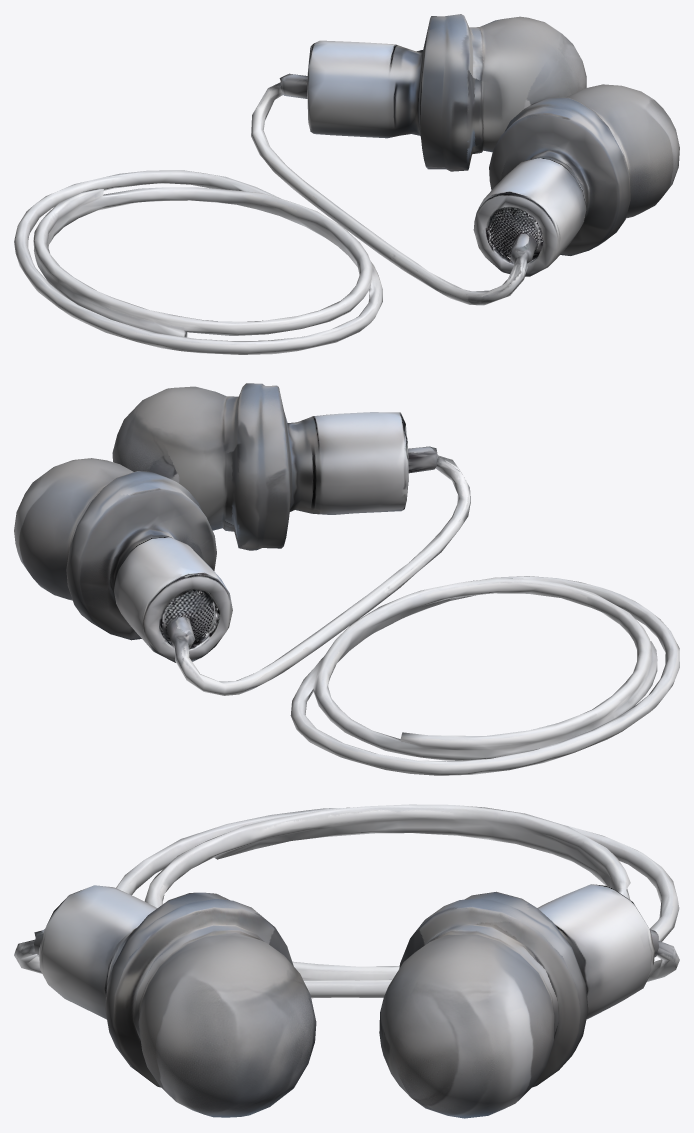
Rendered from Prop_Earplugs_01.glb.
3 views of the same model, one above another, from view 1: azimuth 30°, elevation 25°; view 2: azimuth 150°, elevation 25°; view 3: azimuth 270°, elevation 25° (orthographic). The views are drawn at different scales.
Parts seen in each view (by area): view 1: mesh_node; view 2: mesh_node; view 3: mesh_node.
Part boxes in pixels (x1,y1,x2,y2): mesh_node: (14, 14, 679, 354); mesh_node: (14, 383, 679, 775); mesh_node: (14, 804, 679, 1118).
Size of the model in its own units: 1.98 by 0.5149 by 1.59.
Materials: 1 (1 with a texture image).
